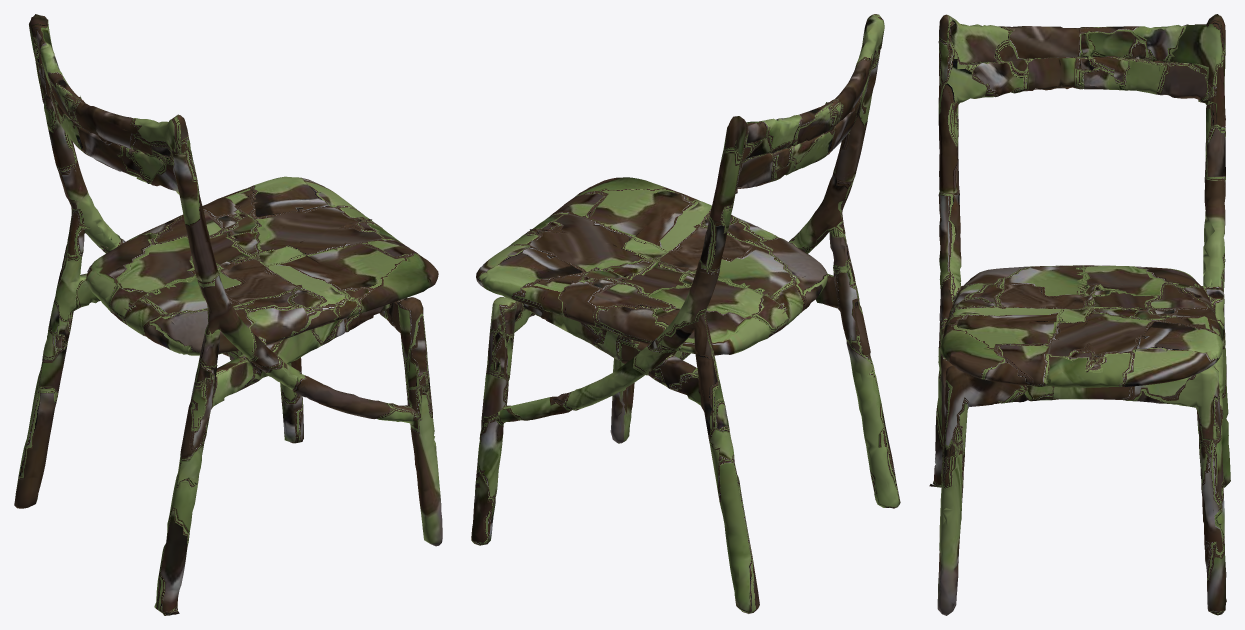
File: chair.draco.glb
3 views of the same model, side by side, from view 1: azimuth 30°, elevation 25°; view 2: azimuth 150°, elevation 25°; view 3: azimuth 270°, elevation 25° (orthographic). The views are drawn at different scales.
Parts seen in each view (by area): view 1: chair; view 2: chair; view 3: chair.
Boxes of the visible parts, left/top/right/bottom form: chair: left=14, top=14, right=442, bottom=615; chair: left=471, top=14, right=900, bottom=613; chair: left=929, top=14, right=1230, bottom=615.
Bounding box in the file's own units: 0.6418 × 0.9491 × 0.5415.
Materials: 1 (1 with a texture image).
